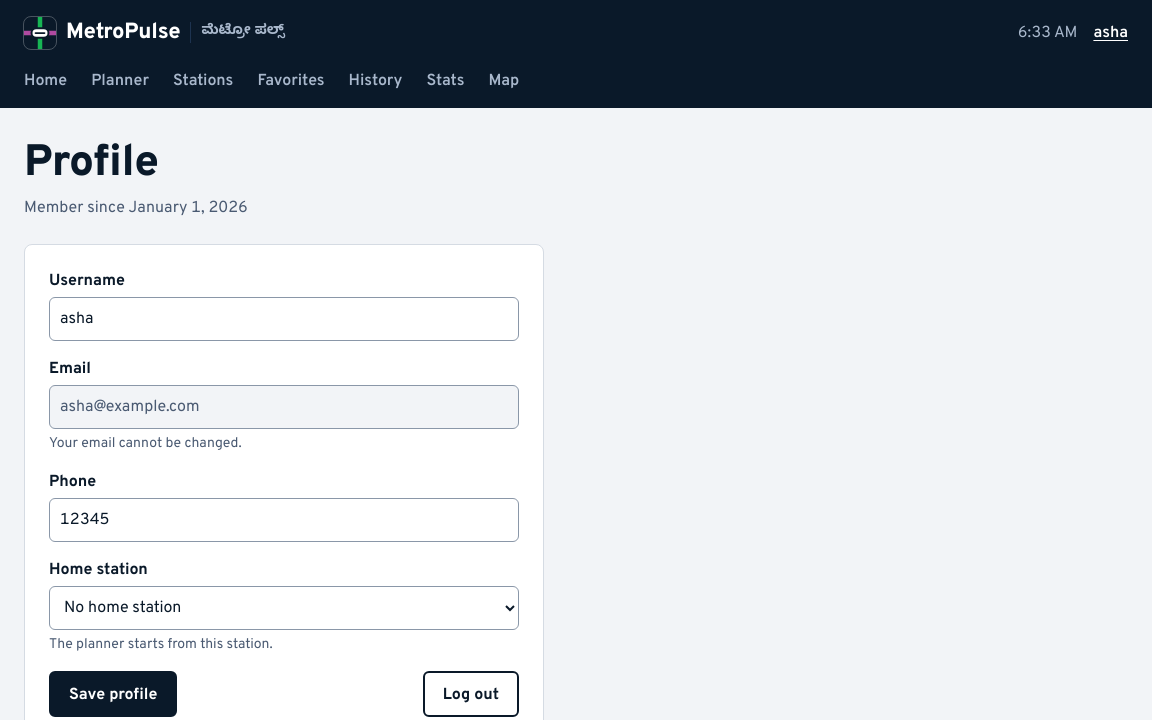
Test case: editing the profile straight away keeps the other fields
The width and height of the screenshot is (1152, 720).
Expected: the field labelled "Username" holds "asha", [49,297,519,341]
Select "Central College" in the dropdown labelled "Home station" at (284, 608), box [49,586,519,630]
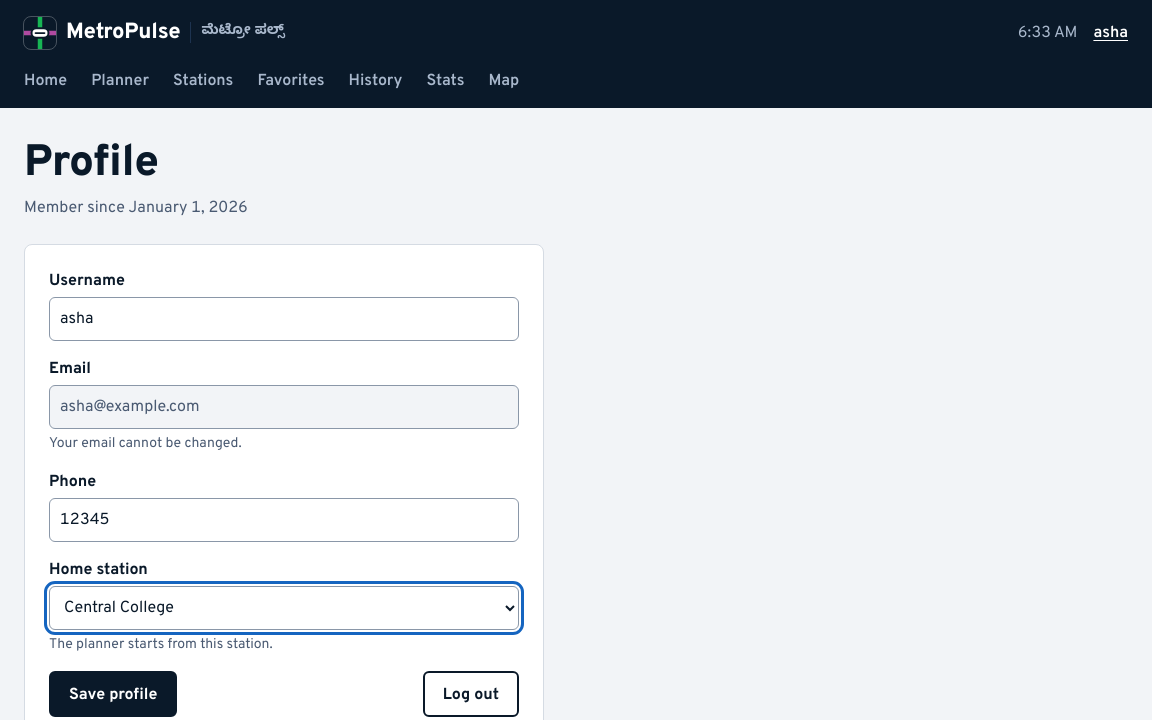
Click the button "Save profile" at (113, 694), box [49,671,177,717]
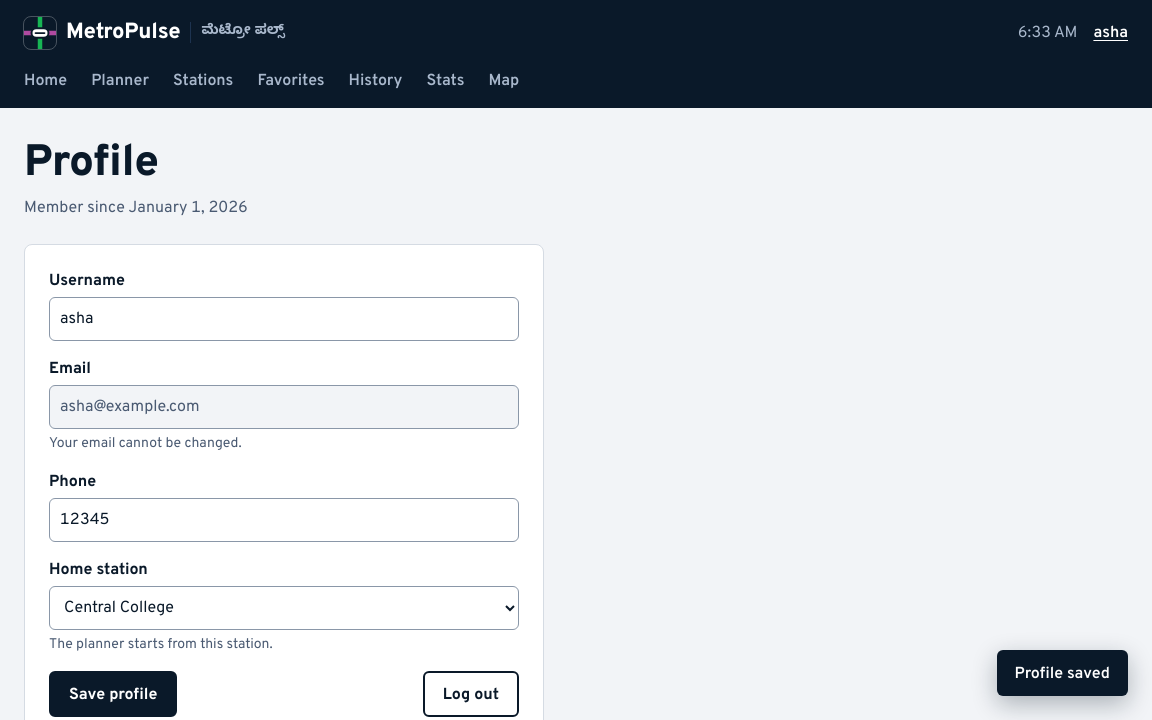
Expected: the text "Profile saved" is shown, [997,650,1128,696]
